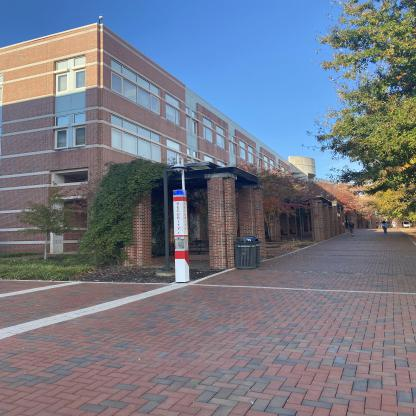EB-1: (0, 12, 356, 263)
